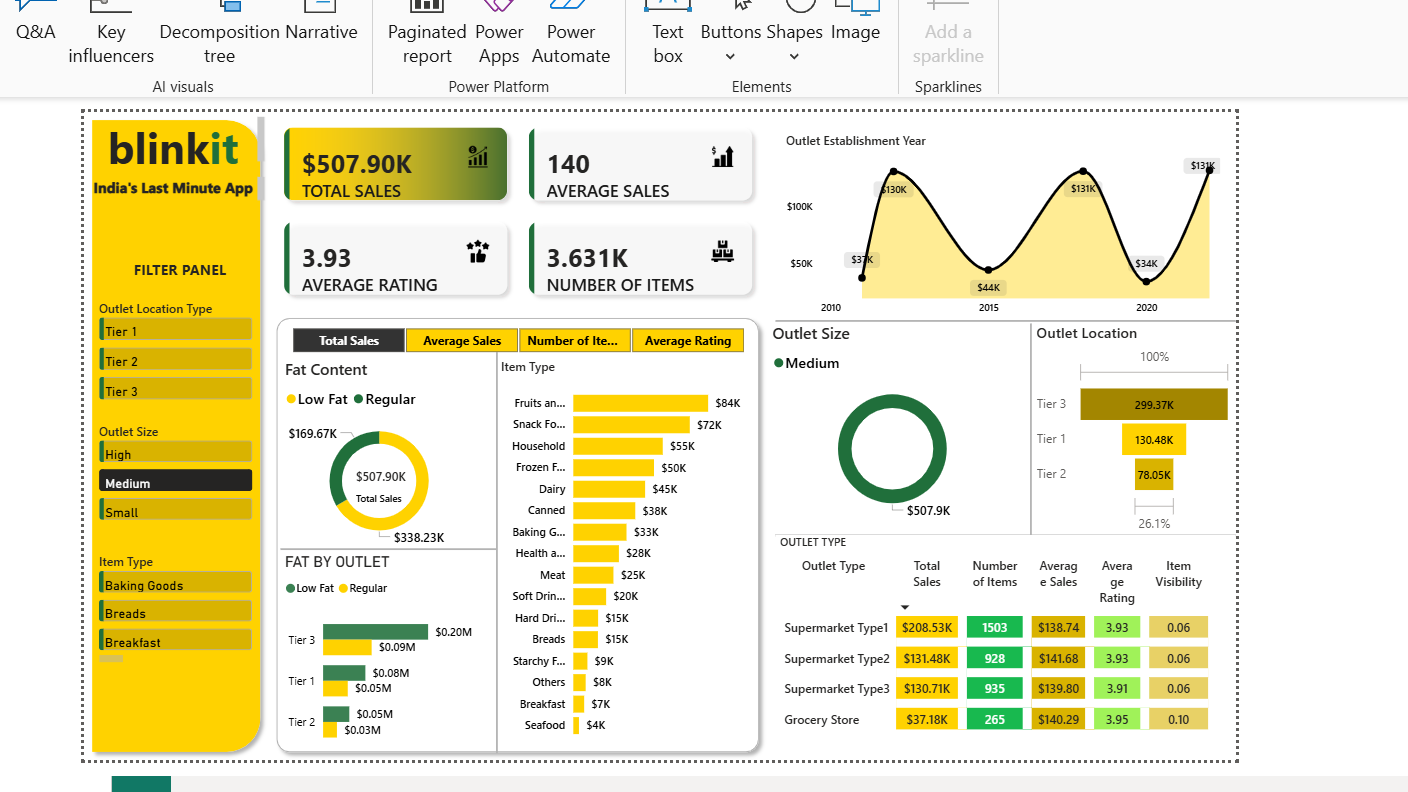

The page's visual inventory and layout, read from the dashboard file:
{"tool":"powerbi","page":{"name":"Page 1","canvas":[1280,720],"ordinal":0},"visuals":[{"type":"shape","box":[0,0,205,720],"z":0},{"type":"textbox","box":[0,0,205.6,66.4],"z":1000},{"type":"textbox","box":[0,66.4,205.6,42.1],"z":2000},{"type":"cardVisual","fields":{"Data":["BlinkIT Grocery Data.Total Sales","BlinkIT Grocery Data.Average Sales","BlinkIT Grocery Data.Average Rating","BlinkIT Grocery Data.Number of Items"]},"box":[205.6,0,554,220],"z":3000},{"type":"shape","box":[205.6,220.2,553.8,500.3],"z":4000},{"type":"donutChart","title":"Fat Content","fields":{"Y":["BlinkIT Grocery Data.Number of Items"],"Category":["BlinkIT Grocery Data.Item Fat Content"]},"box":[218.6,273.6,218.6,217],"z":5000},{"type":"slicer","fields":{"Values":["Metrics .Metrics "]},"box":[207.3,233.2,550.5,40.5],"z":6000},{"type":"cardVisual","fields":{"Data":["BlinkIT Grocery Data.Number of Items"]},"box":[285,359.5,111.7,111.7],"z":7000},{"type":"clusteredBarChart","title":"FAT BY OUTLET","fields":{"Y":["BlinkIT Grocery Data.Number of Items"],"Category":["BlinkIT Grocery Data.Outlet Location Type"],"Series":["BlinkIT Grocery Data.Item Fat Content"]},"box":[218.6,490.6,218.6,229.9],"z":8000},{"type":"shape","box":[218.6,375.7,240,221.4],"z":9000},{"type":"shape","box":[421.4,267.1,74.3,445.7],"z":10000},{"type":"barChart","title":"Item Type","fields":{"Y":["BlinkIT Grocery Data.Number of Items"],"Category":["BlinkIT Grocery Data.Item Type"]},"box":[458.2,273.6,286.6,432.3],"z":11000},{"type":"lineChart","title":"Outlet Establishment Year","fields":{"Category":["BlinkIT Grocery Data.Outlet Establishment Year"],"Y":["BlinkIT Grocery Data.Total Sales"]},"box":[775.6,21,492.2,212.1],"z":12000},{"type":"donutChart","title":"Outlet Size","fields":{"Y":["BlinkIT Grocery Data.Total Sales"],"Category":["BlinkIT Grocery Data.Outlet Size"]},"box":[760,232.9,275.7,225.7],"z":13000},{"type":"funnel","title":"Outlet Location","fields":{"Y":["Sum(BlinkIT Grocery Data.Sales)"],"Category":["BlinkIT Grocery Data.Outlet Location Type"]},"box":[1052.9,232.9,227.1,238.6],"z":14000},{"type":"shape","box":[1015.7,234.3,74.3,237.1],"z":15000},{"type":"shape","box":[768.6,452.9,511.4,34.3],"z":16000},{"type":"shape","box":[768.6,215.7,511.4,34.3],"z":17000},{"type":"pivotTable","title":"OUTLET TYPE","fields":{"Rows":["BlinkIT Grocery Data.Outlet Type"],"Values":["BlinkIT Grocery Data.Total Sales","BlinkIT Grocery Data.Number of Items","BlinkIT Grocery Data.Average Sales","BlinkIT Grocery Data.Average Rating","Avg(BlinkIT Grocery Data.Item Visibility)"]},"box":[768.6,470,511.4,250],"z":18000},{"type":"advancedSlicerVisual","fields":{"Values":["BlinkIT Grocery Data.Outlet Location Type"]},"box":[11.7,208.3,180,116.7],"z":19000},{"type":"advancedSlicerVisual","fields":{"Values":["BlinkIT Grocery Data.Outlet Size"]},"box":[11.7,345,180,113.3],"z":20000},{"type":"advancedSlicerVisual","fields":{"Values":["BlinkIT Grocery Data.Item Type"]},"box":[11.7,490,180,128.3],"z":21000},{"type":"textbox","box":[11.7,158.3,178.3,31.7],"z":22000}]}

Visuals, with their boxes on the page's 1280x720 design canvas (x1, y1, x2, y2). These are canvas units, not pixel positions in the 1408x792 screenshot, which may show the page scaled, cropped or inside an application window:
shape: box=[0, 0, 205, 720]
textbox: box=[0, 0, 206, 66]
textbox: box=[0, 66, 206, 108]
cardVisual - BlinkIT Grocery Data.Total Sales x BlinkIT Grocery Data.Average Sales: box=[206, 0, 760, 220]
shape: box=[206, 220, 759, 720]
"Fat Content" donutChart: box=[219, 274, 437, 491]
slicer - Metrics .Metrics : box=[207, 233, 758, 274]
cardVisual - BlinkIT Grocery Data.Number of Items: box=[285, 360, 397, 471]
"FAT BY OUTLET" clusteredBarChart: box=[219, 491, 437, 720]
shape: box=[219, 376, 459, 597]
shape: box=[421, 267, 496, 713]
"Item Type" barChart: box=[458, 274, 745, 706]
"Outlet Establishment Year" lineChart: box=[776, 21, 1268, 233]
"Outlet Size" donutChart: box=[760, 233, 1036, 459]
"Outlet Location" funnel: box=[1053, 233, 1280, 472]
shape: box=[1016, 234, 1090, 471]
shape: box=[769, 453, 1280, 487]
shape: box=[769, 216, 1280, 250]
"OUTLET TYPE" pivotTable: box=[769, 470, 1280, 720]
advancedSlicerVisual - BlinkIT Grocery Data.Outlet Location Type: box=[12, 208, 192, 325]
advancedSlicerVisual - BlinkIT Grocery Data.Outlet Size: box=[12, 345, 192, 458]
advancedSlicerVisual - BlinkIT Grocery Data.Item Type: box=[12, 490, 192, 618]
textbox: box=[12, 158, 190, 190]
